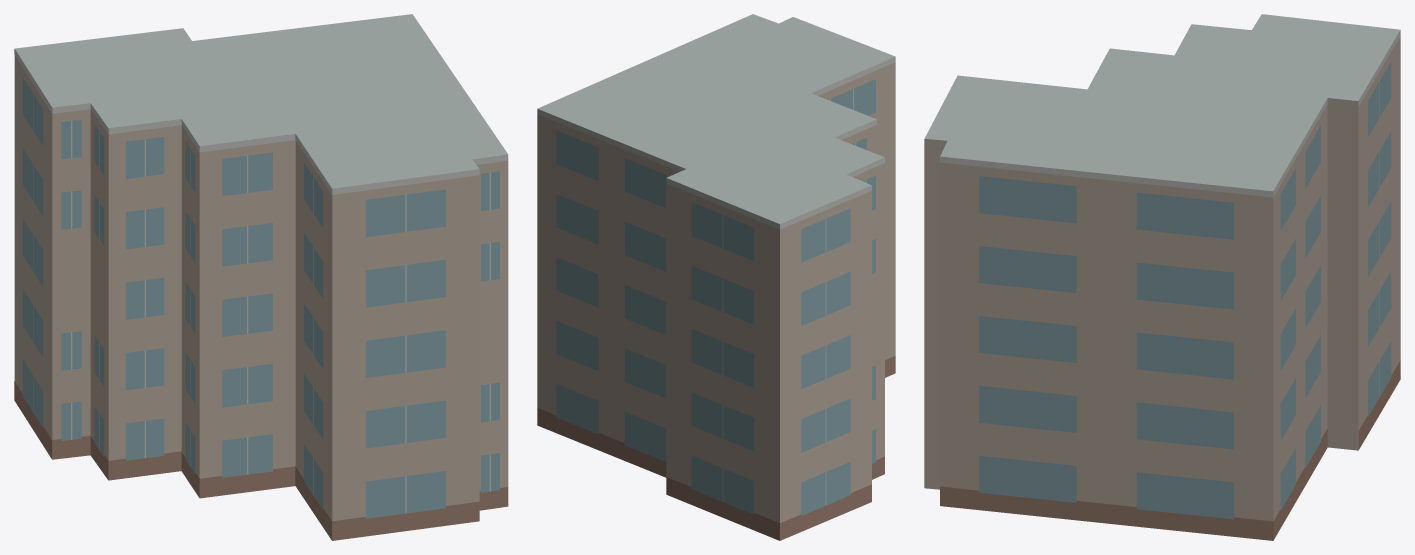
The model's file is survey-upis-32821745.glb.
3 views of the same model, side by side, from view 1: azimuth 30°, elevation 25°; view 2: azimuth 150°, elevation 25°; view 3: azimuth 270°, elevation 25° (orthographic). The views are drawn at different scales.
Visible parts, largest first — view 1: survey-upis-32821745.tmp; view 2: survey-upis-32821745.tmp; view 3: survey-upis-32821745.tmp.
Part boxes in pixels (x1,y1,x2,y2): survey-upis-32821745.tmp: (14, 14, 508, 540); survey-upis-32821745.tmp: (537, 14, 895, 540); survey-upis-32821745.tmp: (924, 14, 1400, 540).
Bounding box in the file's own units: 15.25 × 14 × 17.3.
